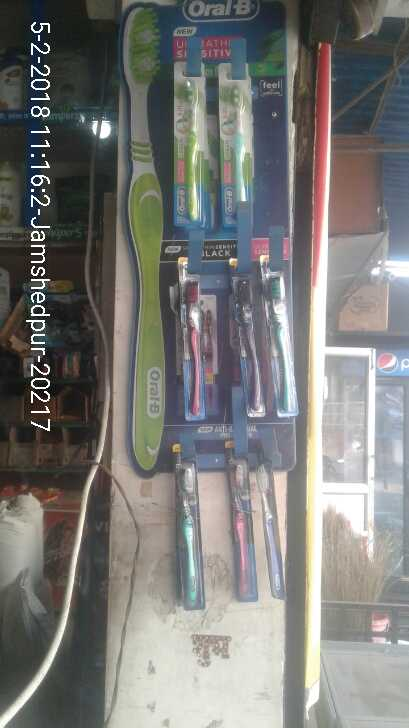oralb: (209, 72, 261, 223), (171, 259, 208, 419), (173, 66, 205, 239), (226, 276, 253, 426), (268, 274, 288, 415)
